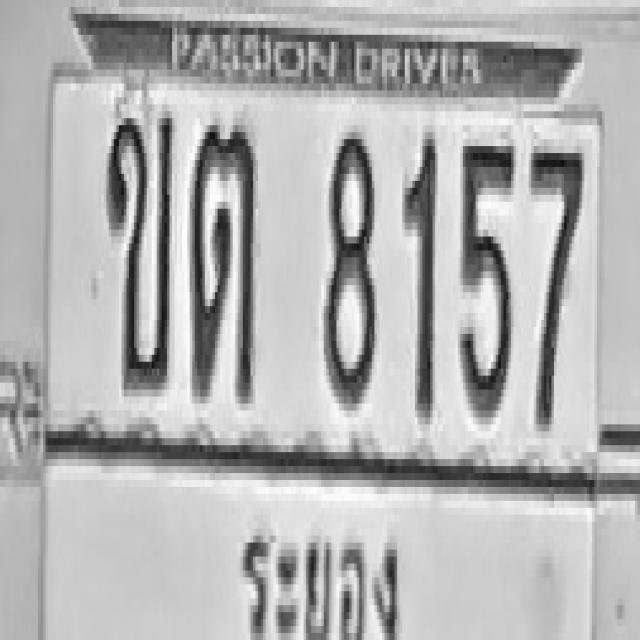1: (404, 129, 436, 414)
11KhorKhai: (105, 108, 173, 386)
30TorTao: (190, 115, 256, 393)
5: (458, 136, 513, 414)
7: (530, 142, 583, 421)
8: (324, 122, 374, 400)
Rayong: (228, 492, 415, 640)
